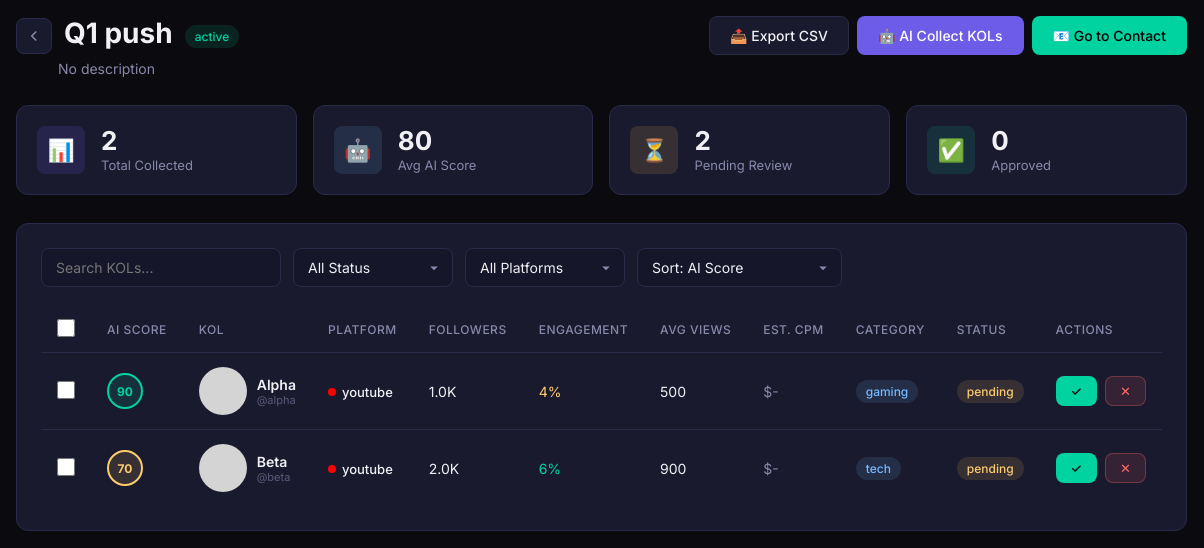
Test case: CampaignDetail bulk selection a11y › select-all checks every row and unchecks them again
The width and height of the screenshot is (1204, 548).
Expected: the text "Alpha" is shown, [257,376,296,392]
What coordinates should you click on to do the following:
click the checkbox named "select all"
I would click on:
 (66, 328)
Its box is [57,319,75,337].
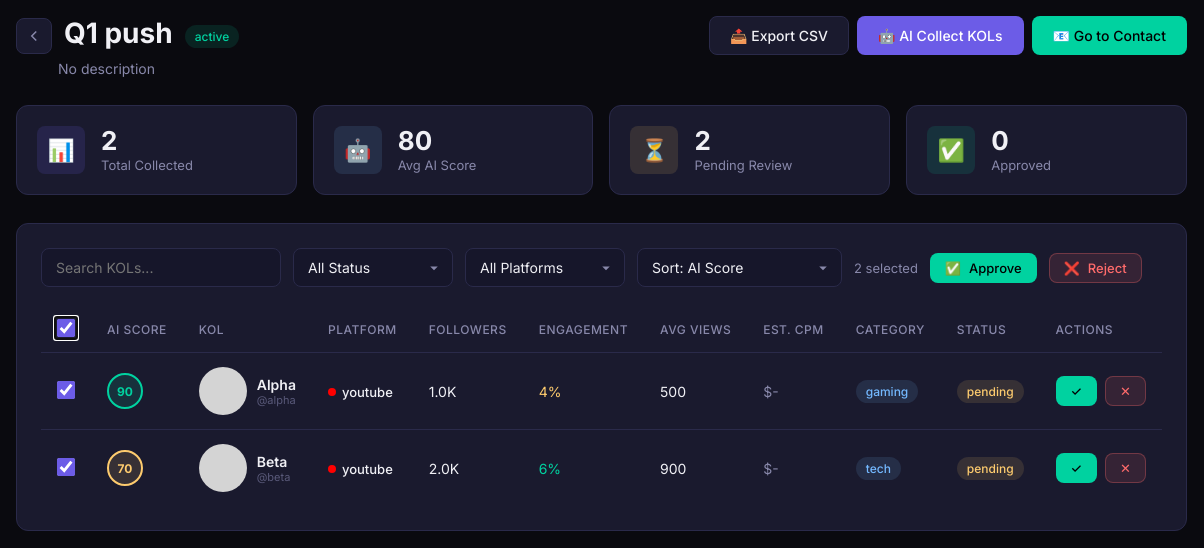
Expected: the checkbox named "select all" is checked
Expected: the checkbox named "select alpha" is checked, [57,380,75,398]
Expected: the checkbox named "select beta" is checked, [57,458,75,476]
What coordinates should you click on to do the following:
click the checkbox named "select all"
I would click on:
 (66, 328)
Its box is [57,319,75,337].
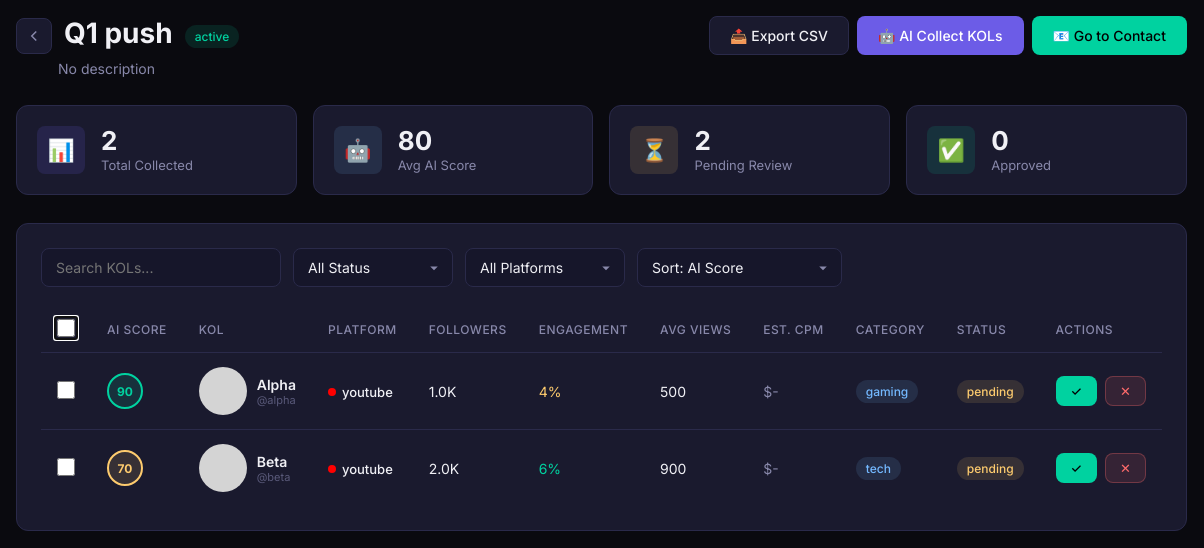
Expected: the checkbox named "select alpha" is not checked, [57,380,75,398]
